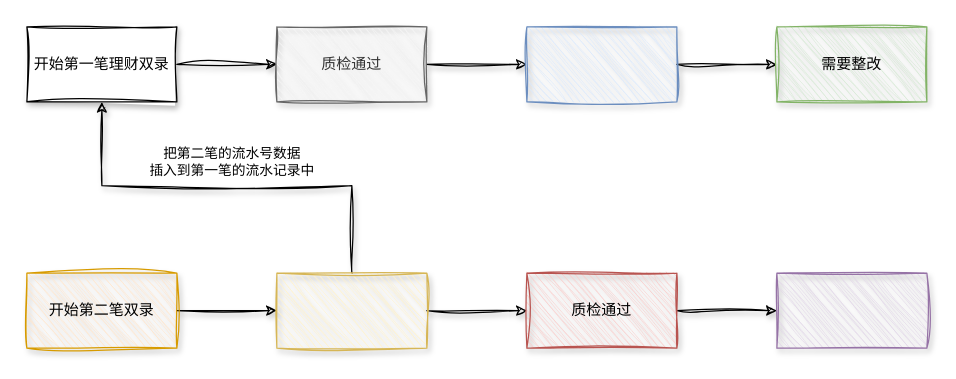
This 956x379 diagram has some shape labels left out. Here are the shapes that lost their labels. From the top down, the centre of each, then its label:
[602,66]: 理财系统关联
[352,312]: 填写第一步的流水号
[852,312]: 理财不需要关联
